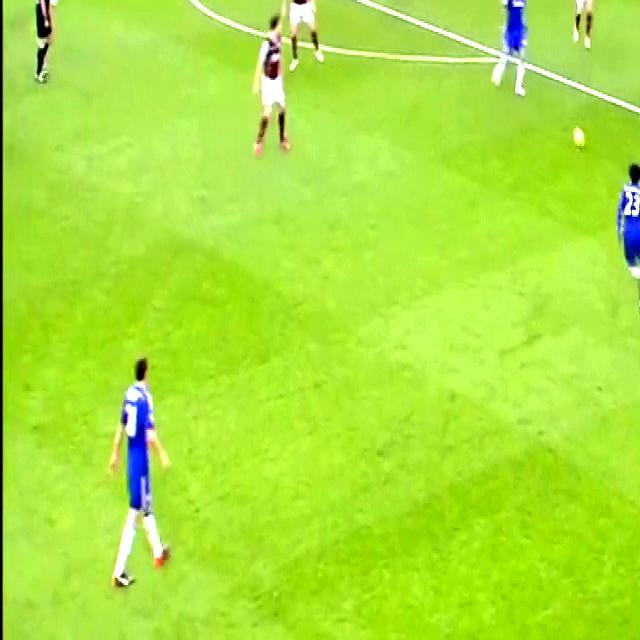ball: (571, 120, 587, 159)
referee: (25, 0, 57, 92)
soccer-player: (106, 344, 180, 600), (250, 6, 297, 161), (605, 146, 640, 320), (481, 0, 532, 107), (280, 0, 325, 76), (561, 0, 602, 64), (392, 0, 434, 5), (37, 0, 69, 2)
